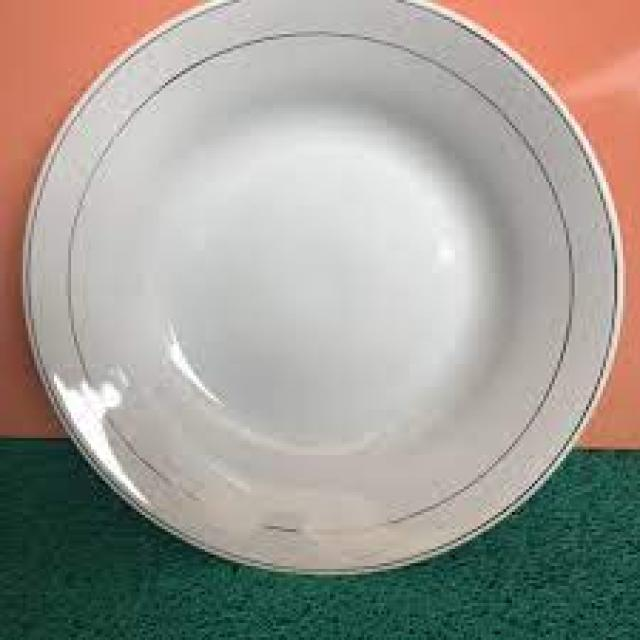Plate: (22, 9, 633, 590)
